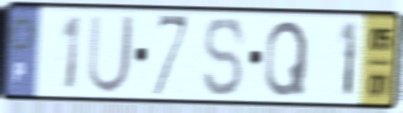1: (55, 12, 84, 94), (336, 18, 360, 103)
7: (151, 12, 193, 99)
Q: (262, 17, 311, 100)
S: (202, 14, 247, 100)
U: (85, 12, 138, 97)
